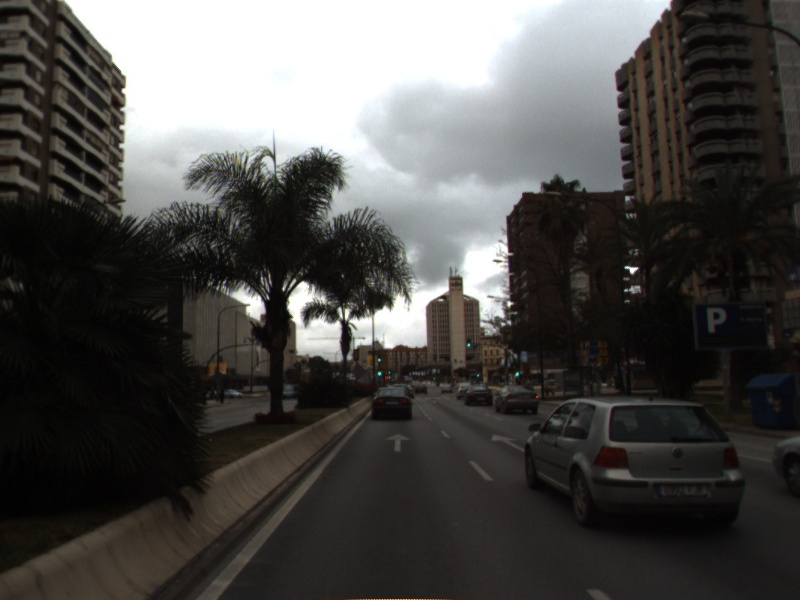STRAIGHT: (489, 432, 527, 453), (383, 432, 413, 454)
